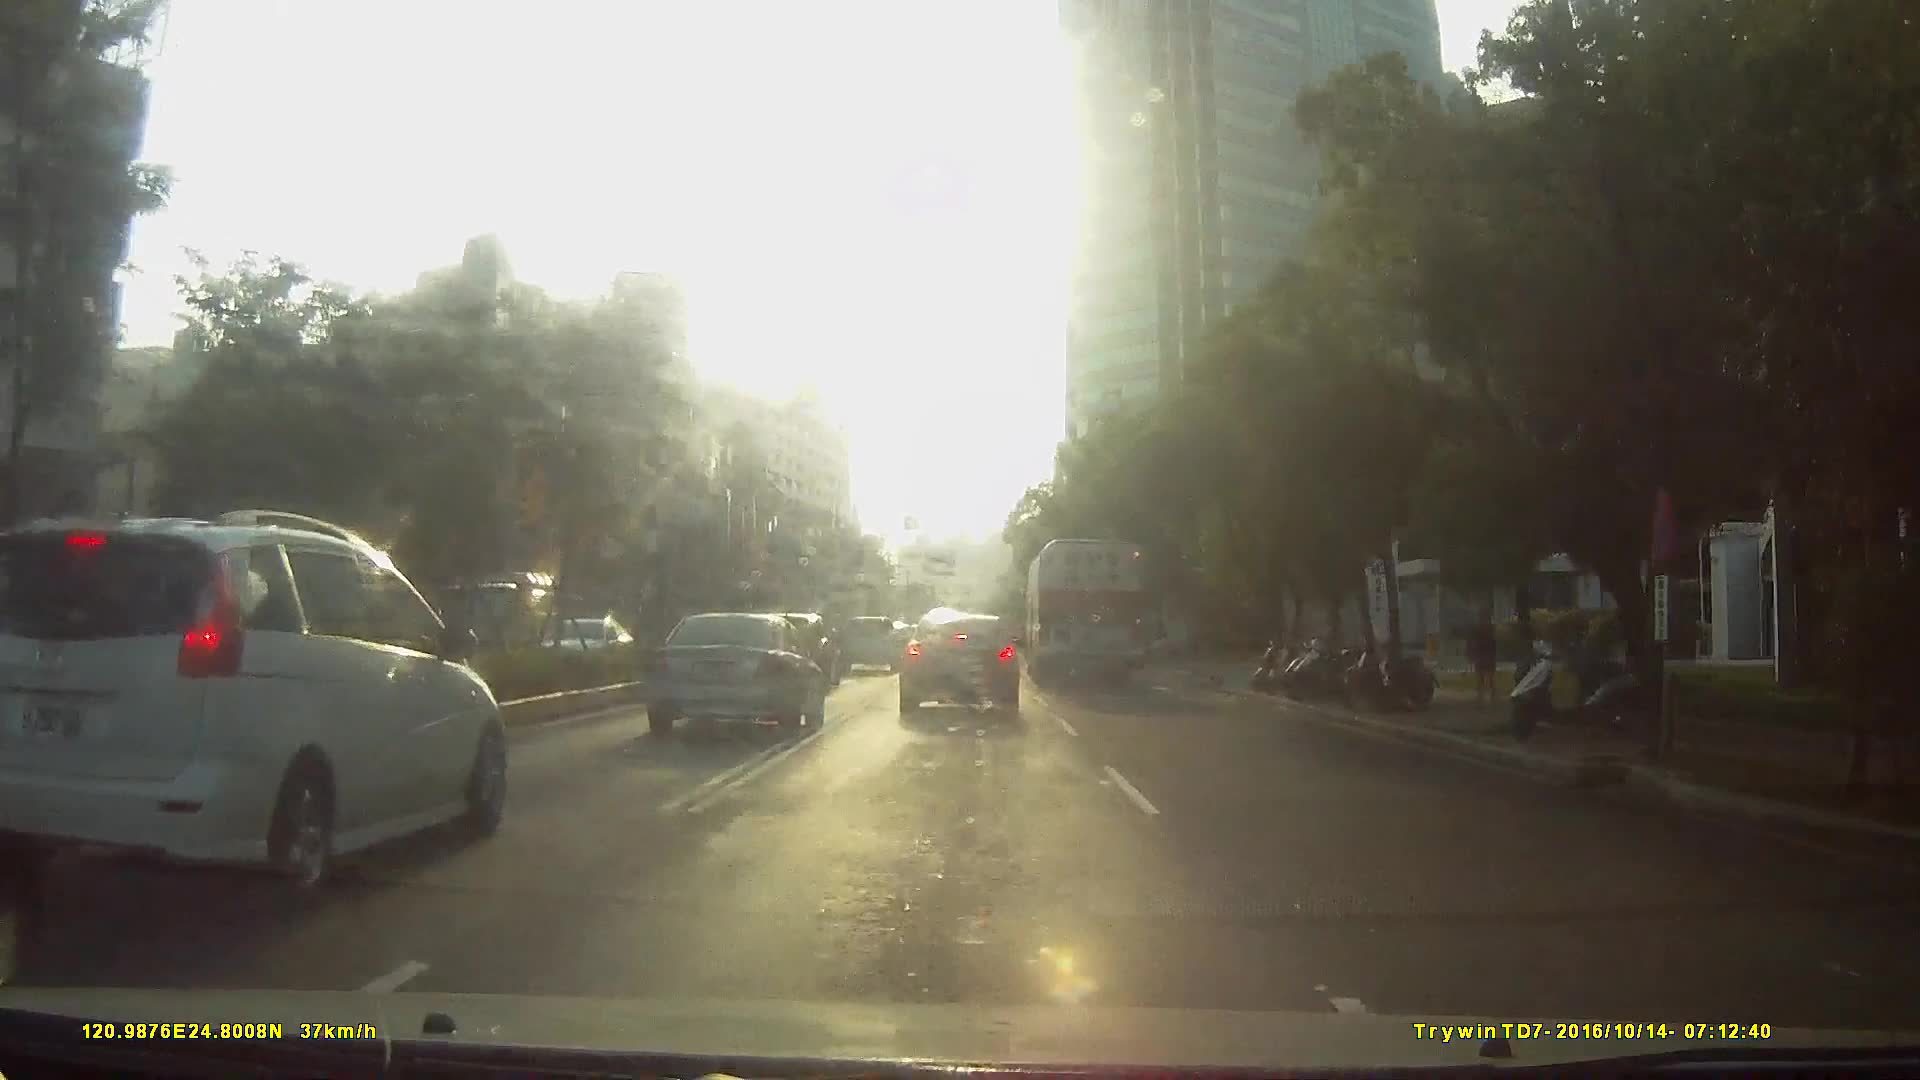pedestrian: (1466, 610, 1507, 710)
vehicle: (31, 492, 506, 926), (250, 556, 684, 868), (636, 608, 821, 740), (1022, 535, 1147, 691), (895, 611, 1023, 718), (425, 563, 542, 659), (536, 616, 639, 677), (831, 613, 899, 671)
